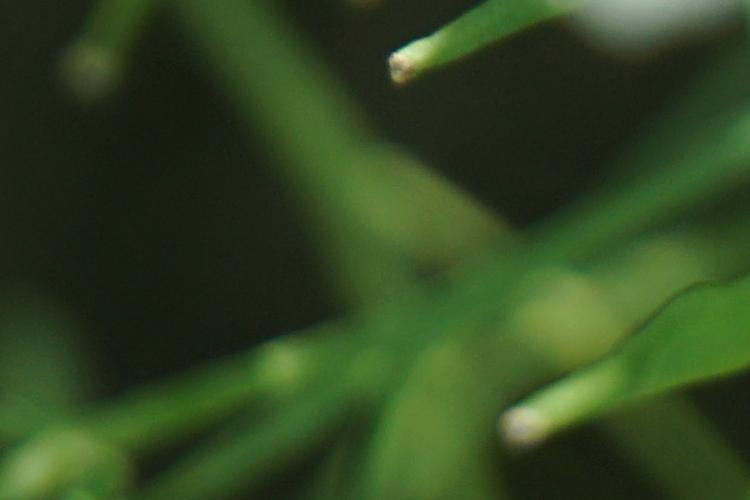pod: (466, 291, 715, 469), (378, 12, 582, 101)
